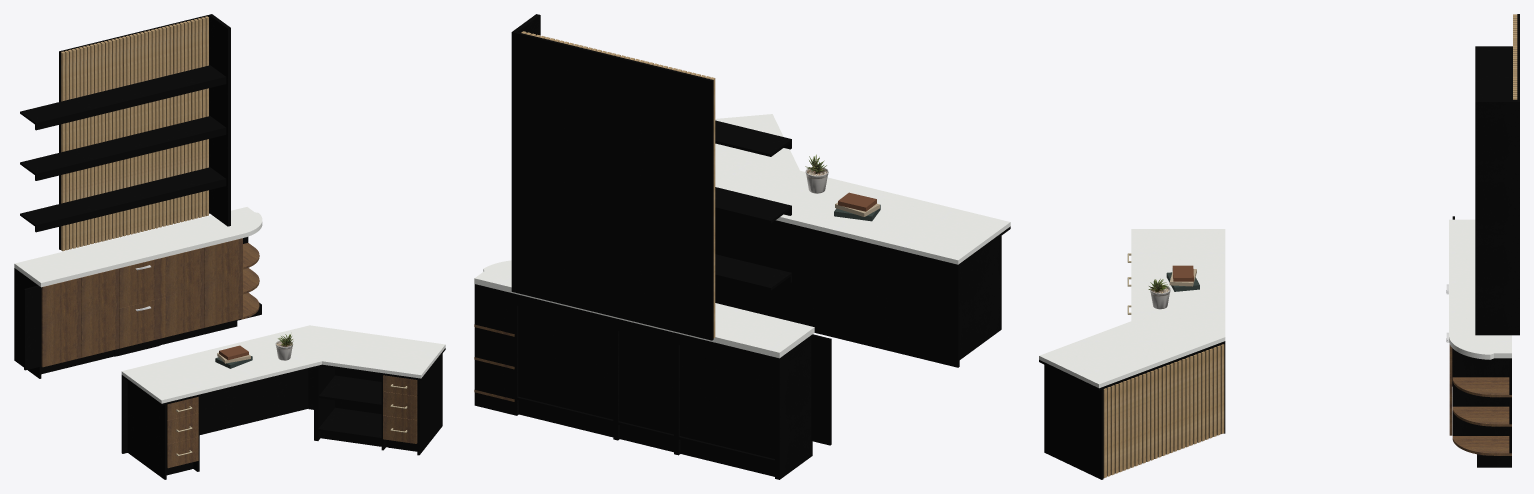
Rendered from executive-office.glb.
3 views of the same model, side by side, from view 1: azimuth 30°, elevation 25°; view 2: azimuth 150°, elevation 25°; view 3: azimuth 270°, elevation 25° (orthographic). The views are drawn at different scales.
Parts seen in each view (by area): view 1: executive-office.001, mv_executive-office_006, mv_executive-office_007, mv_executive-office_010, mv_executive-office_011, mv_executive-office_008, mv_executive-office_009, mv_executive-office_004, mv_executive-office_005, mv_executive-office_002, mv_executive-office_001, mv_executive-office_003 (+1 smaller); view 2: executive-office.001; view 3: executive-office.001.
Boxes of the visible parts, box(x1,y1,x2,y2) form: executive-office.001: box(14, 14, 445, 479); mv_executive-office_006: box(41, 277, 80, 367); mv_executive-office_007: box(81, 268, 119, 357); mv_executive-office_010: box(166, 247, 204, 337); mv_executive-office_011: box(204, 238, 242, 327); mv_executive-office_008: box(119, 257, 165, 308); mv_executive-office_009: box(119, 297, 165, 348); mv_executive-office_004: box(383, 391, 417, 419); mv_executive-office_005: box(383, 415, 417, 443); mv_executive-office_002: box(167, 437, 198, 468); mv_executive-office_001: box(167, 413, 198, 444); mv_executive-office_003: box(383, 375, 417, 395); executive-office.001: box(474, 14, 1010, 479); executive-office.001: box(1039, 14, 1519, 479).
Size of the model in its own units: 2.67 by 2.79 by 3.5.
11 materials, 7 textured.
